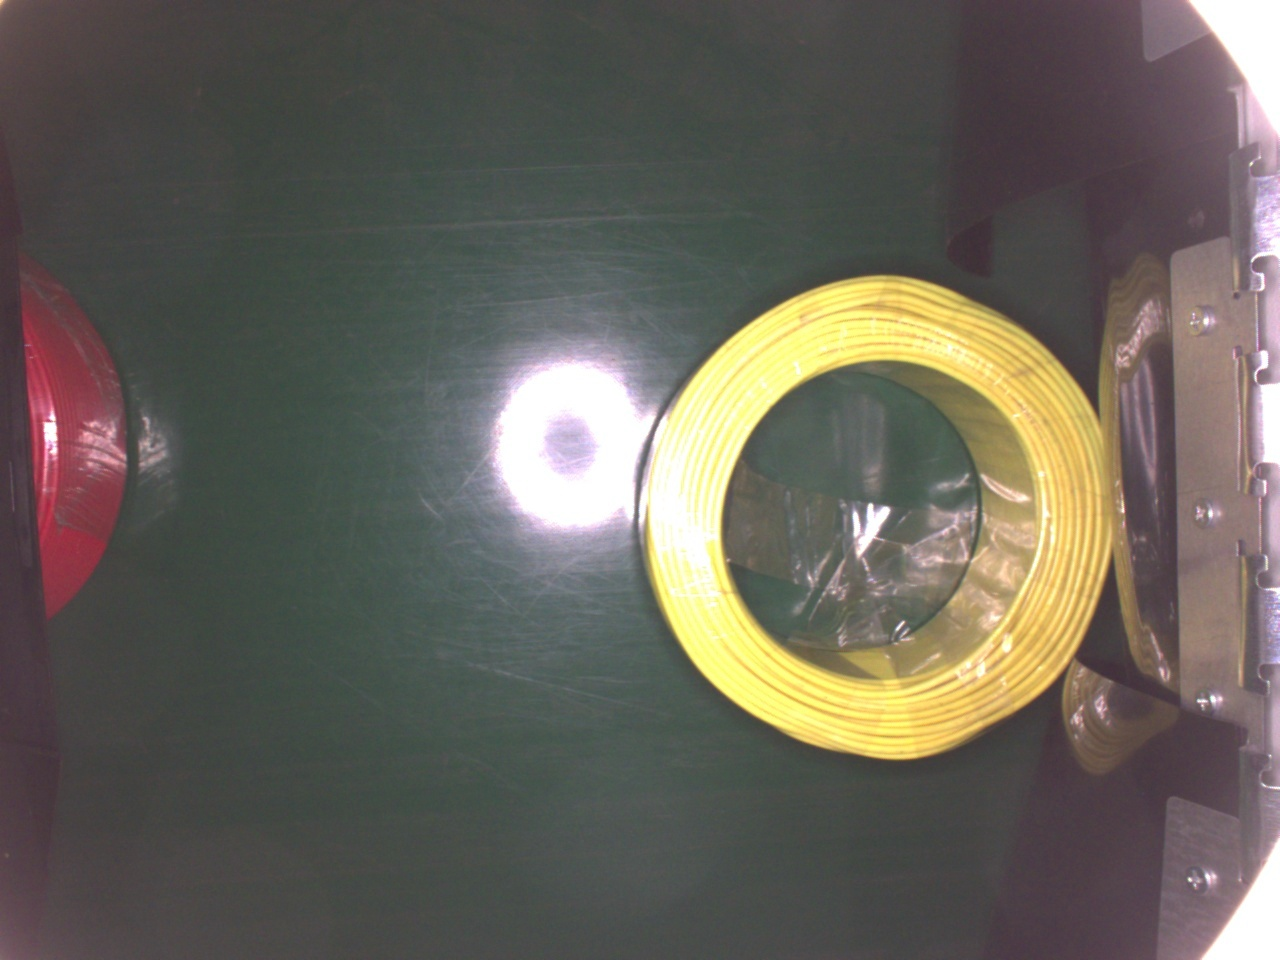red: (20, 262, 135, 622)
yellow: (635, 272, 1111, 758)
